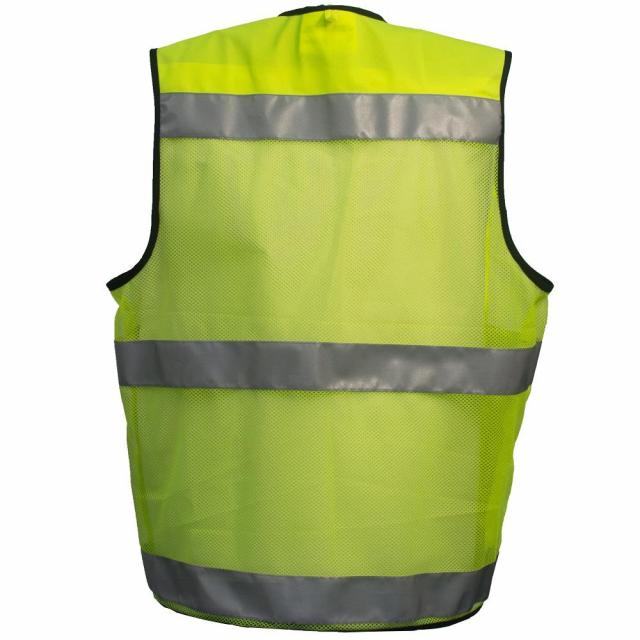Reflective-Jacket: (78, 0, 586, 640)
